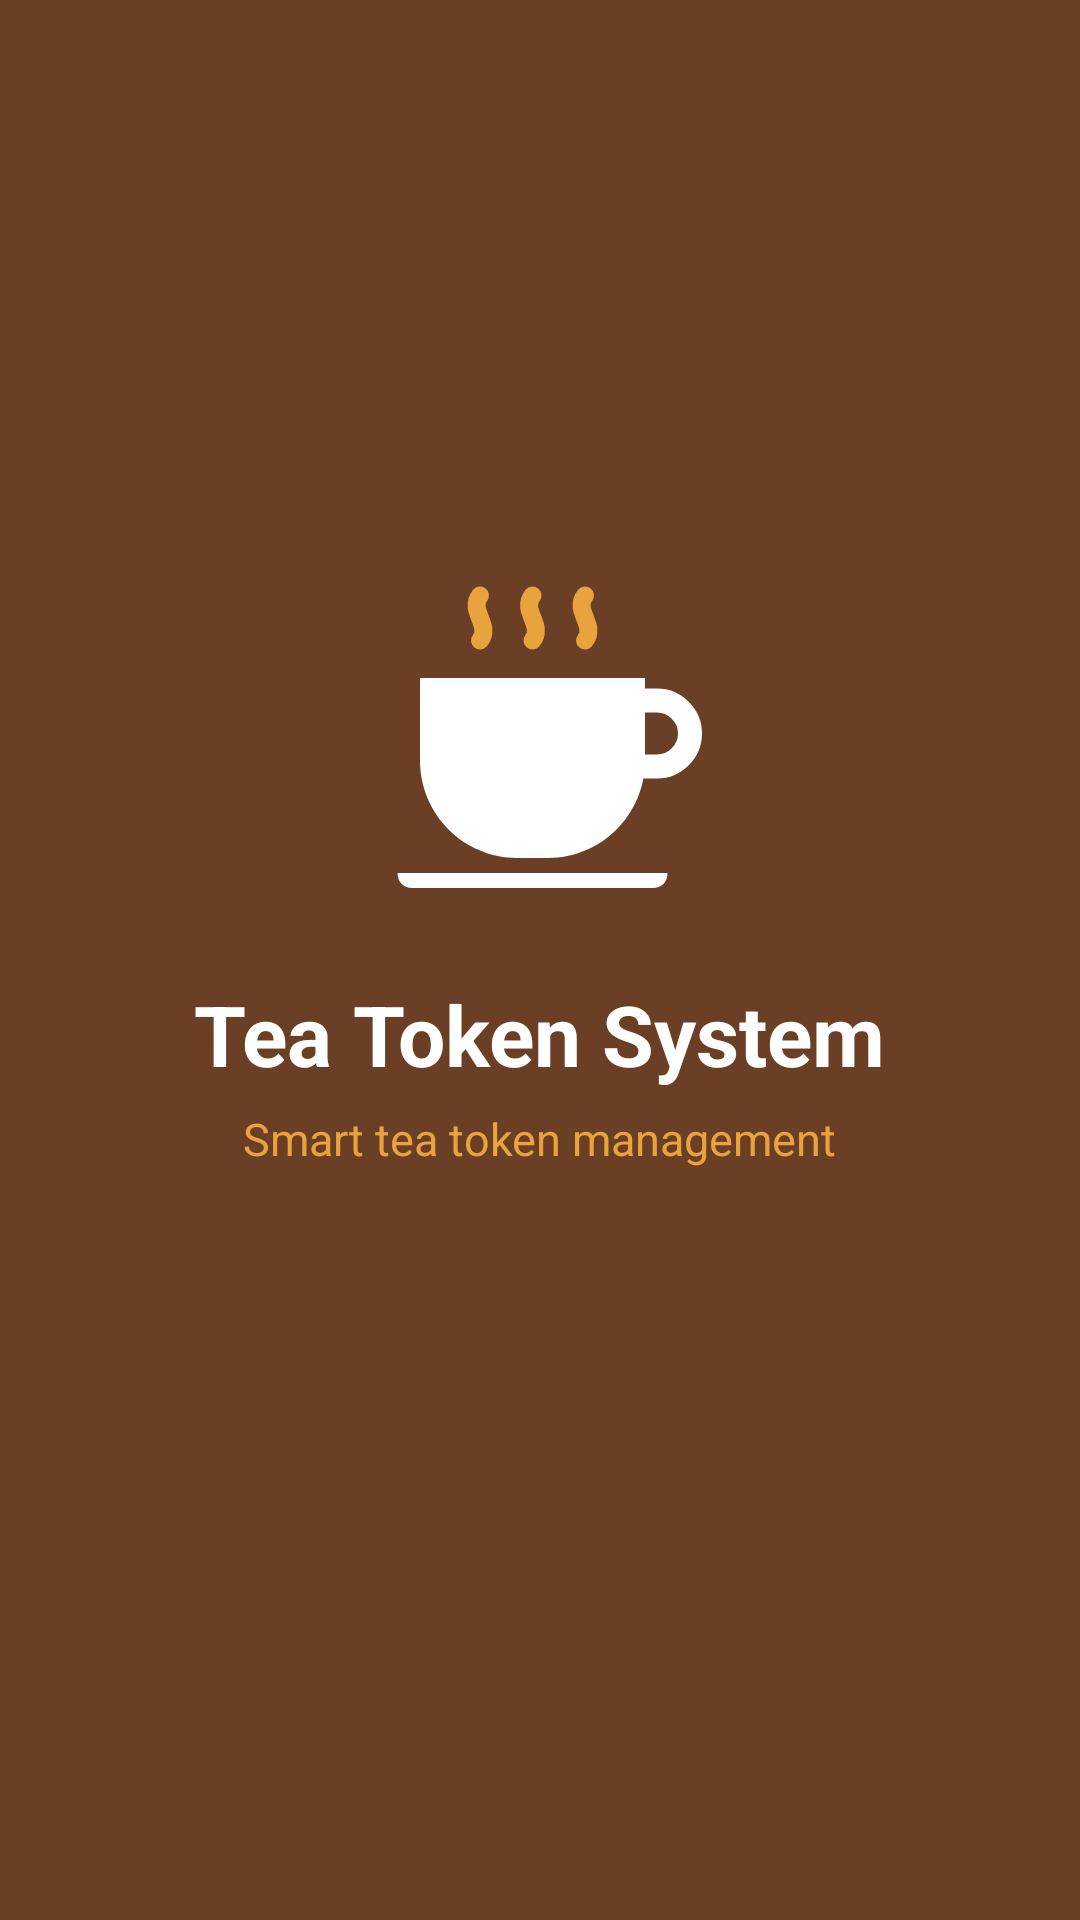

Icon bounding boxes for this 1080px×1920px phone screenshot, format (x1=x1, y1=y1, x2=x2, y2=y2):
tea cup: (x1=397, y1=586, x2=702, y2=888)
